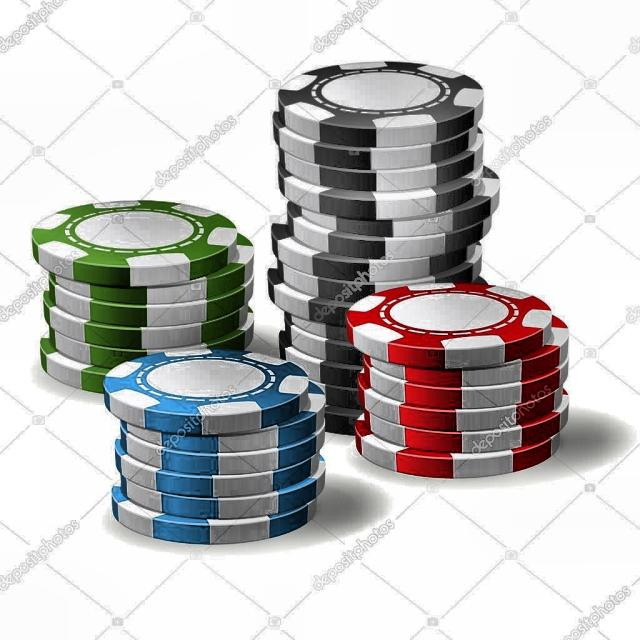Chip: (261, 53, 509, 446), (18, 192, 266, 408), (340, 278, 580, 488), (103, 342, 333, 555)
